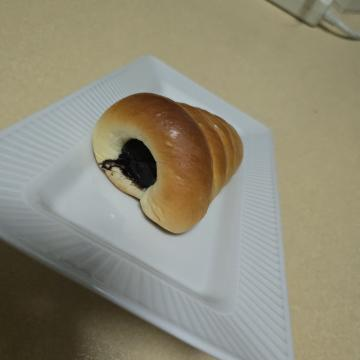cream horn: (86, 107, 250, 281)
